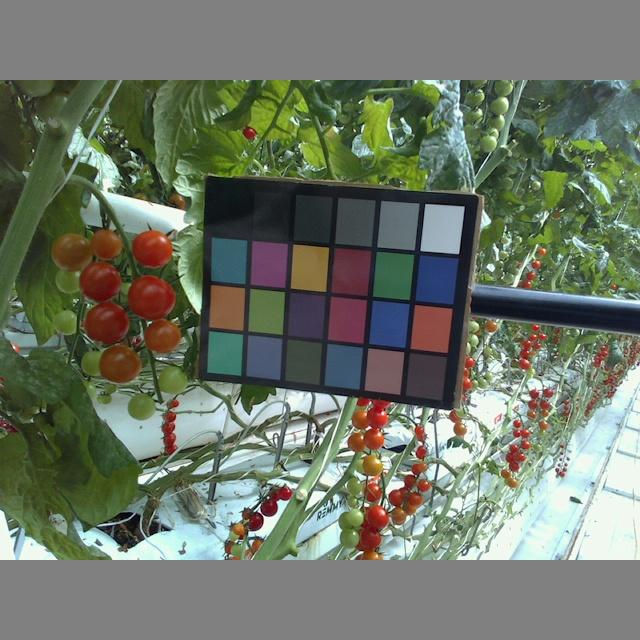green: (156, 364, 186, 394), (127, 390, 155, 420), (81, 348, 108, 378), (55, 266, 82, 295), (52, 309, 78, 337), (336, 508, 366, 532), (345, 476, 363, 500), (336, 527, 359, 545)
pink: (131, 228, 173, 269), (51, 231, 93, 271), (98, 344, 141, 381), (144, 318, 180, 354), (89, 230, 123, 261), (360, 428, 383, 452), (346, 430, 368, 453), (362, 455, 384, 478), (350, 406, 371, 428)
red: (126, 276, 177, 319), (82, 300, 130, 343), (79, 262, 121, 302), (361, 504, 388, 532), (360, 527, 381, 551), (367, 407, 387, 430), (360, 482, 383, 501)
